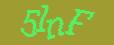1: (34, 5, 48, 31)
5: (20, 10, 40, 36)
F: (64, 8, 93, 35)
n: (45, 16, 65, 39)
